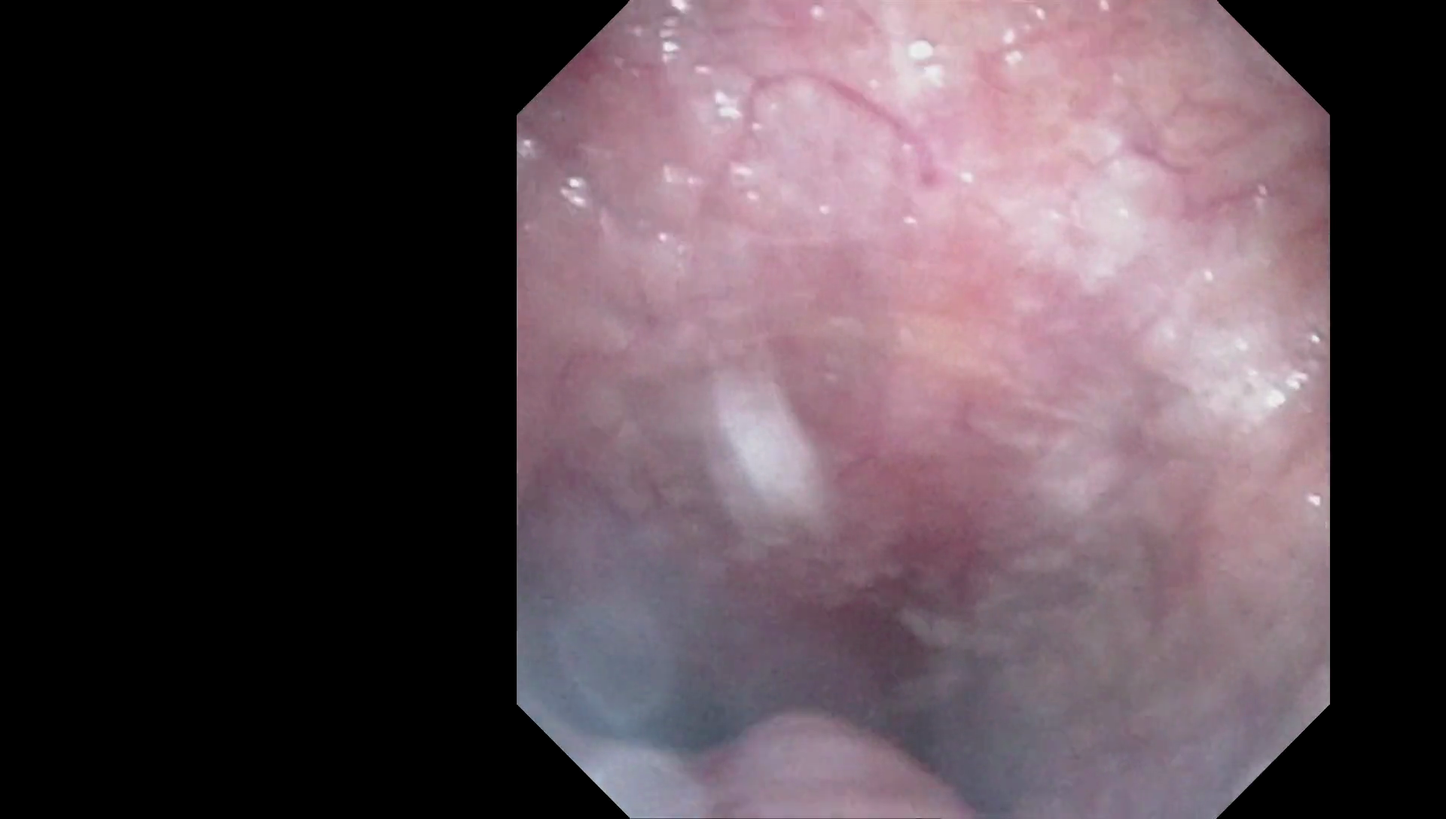next: (843, 645, 1065, 808), (556, 632, 754, 775)
